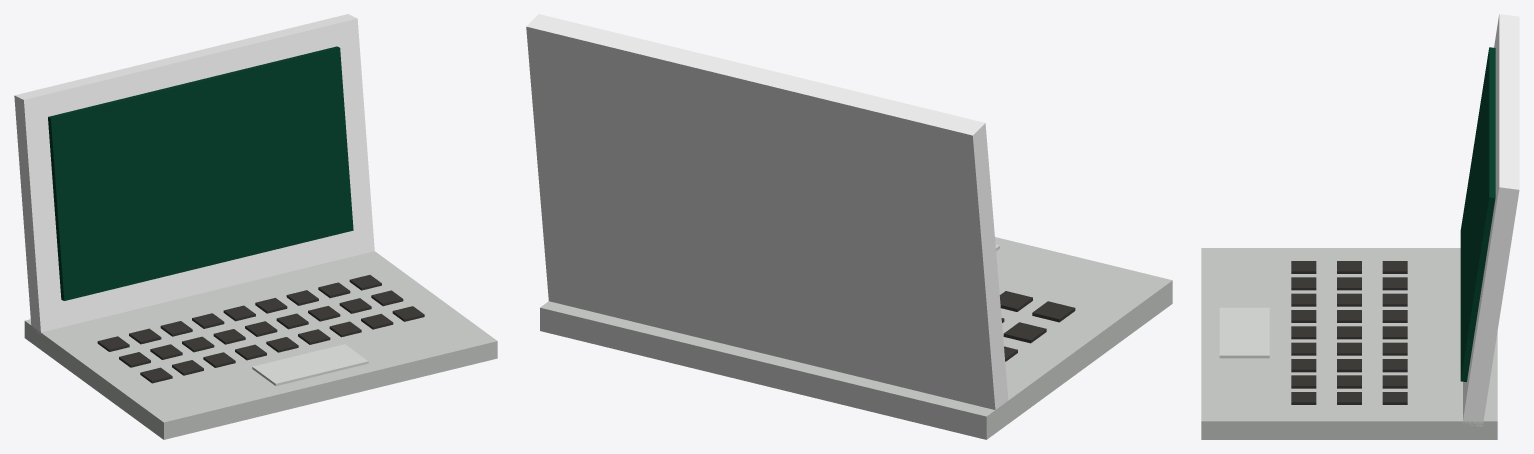
The model's file is everyday_E2-laptop.glb.
3 views of the same model, side by side, from view 1: azimuth 30°, elevation 25°; view 2: azimuth 150°, elevation 25°; view 3: azimuth 270°, elevation 25° (orthographic). The views are drawn at different scales.
Visible parts, largest first — view 1: lid_darkgreen, base_stone, lid_white, key_ink, trackpad_grey; view 2: lid_white, base_stone, key_ink; view 3: base_stone, lid_white, key_ink, lid_darkgreen, trackpad_grey.
Part boxes in pixels (<box>): lid_darkgreen: <box>48,46,353,300</box>; base_stone: <box>24,251,497,439</box>; lid_white: <box>14,14,374,334</box>; key_ink: <box>97,275,424,383</box>; trackpad_grey: <box>252,344,368,385</box>; lid_white: <box>526,14,1008,409</box>; base_stone: <box>540,237,1172,439</box>; key_ink: <box>999,291,1075,361</box>; base_stone: <box>1201,248,1497,439</box>; lid_white: <box>1463,14,1519,426</box>; key_ink: <box>1291,261,1407,404</box>; lid_darkgreen: <box>1460,47,1495,381</box>; trackpad_grey: <box>1219,307,1269,358</box>.
Size of the model in its own units: 0.9 by 0.612 by 0.6982.
